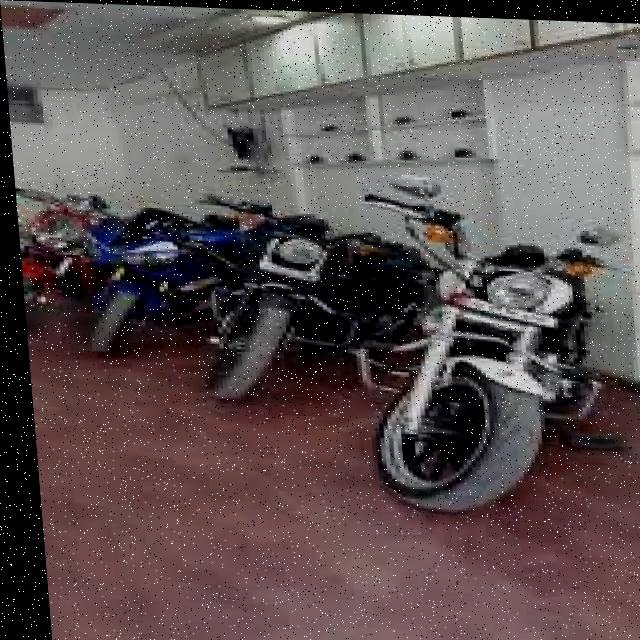bike: (187, 196, 359, 413), (50, 185, 202, 361), (11, 169, 89, 333)
